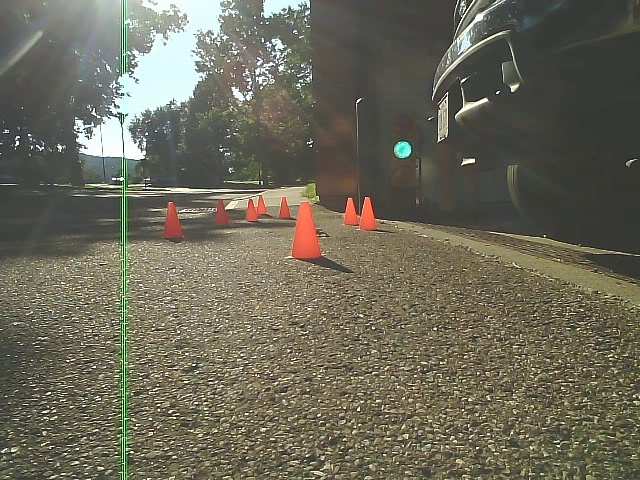green: (389, 112, 418, 190)
